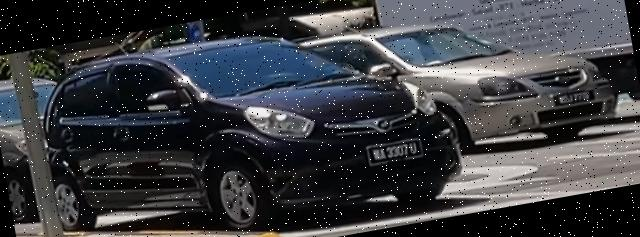License_Plate: (367, 140, 421, 167), (553, 88, 596, 108)
car: (30, 1, 469, 237), (296, 1, 623, 179)
